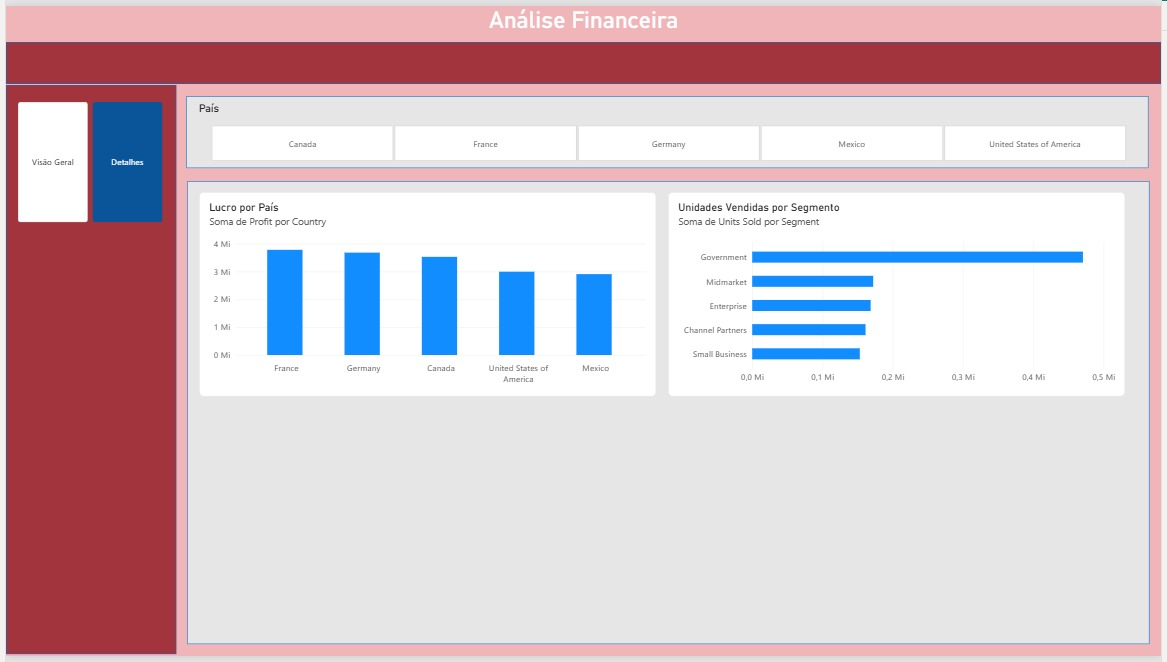

What the dashboard file says about the page in this screenshot:
{"tool":"powerbi","page":{"name":"Detalhes","canvas":[1920,1080],"ordinal":1},"visuals":[{"type":"shape","title":"Análise Financeira","box":[0,0,1920.2,129.6],"z":0},{"type":"shape","box":[0,131.2,283.2,946.2],"z":1000},{"type":"shape","box":[300,150,1600,120],"z":2000},{"type":"shape","box":[300.2,291.6,1600,770],"z":3000},{"type":"columnChart","title":"Lucro por País","fields":{"Category":["financials.Country"],"Y":["Sum(financials.Profit)"]},"box":[320,310,760,340],"z":4000},{"type":"barChart","title":"Unidades Vendidas por Segmento","fields":{"Category":["financials.Segment"],"Y":["Sum(financials.Units Sold)"]},"box":[1100,310,760,340],"z":5000},{"type":"slicer","title":"País","fields":{"Values":["financials.Country"]},"box":[320,160,1560,100],"z":6000},{"type":"pageNavigator","title":"Visão Geral","box":[20,160,240,200],"z":7000}]}

Visuals, with their boxes in screenshot pixels (x1, y1, x2, y2), scaled from the page's 1920x1080 canvas onto the 1167x662 screenshot:
"Análise Financeira" shape: <bbox>0, 0, 1166, 79</bbox>
shape: <bbox>0, 80, 172, 660</bbox>
shape: <bbox>182, 92, 1155, 166</bbox>
shape: <bbox>182, 179, 1155, 651</bbox>
"Lucro por País" columnChart: <bbox>194, 190, 656, 398</bbox>
"Unidades Vendidas por Segmento" barChart: <bbox>669, 190, 1131, 398</bbox>
"País" slicer: <bbox>194, 98, 1143, 159</bbox>
"Visão Geral" pageNavigator: <bbox>12, 98, 158, 221</bbox>
